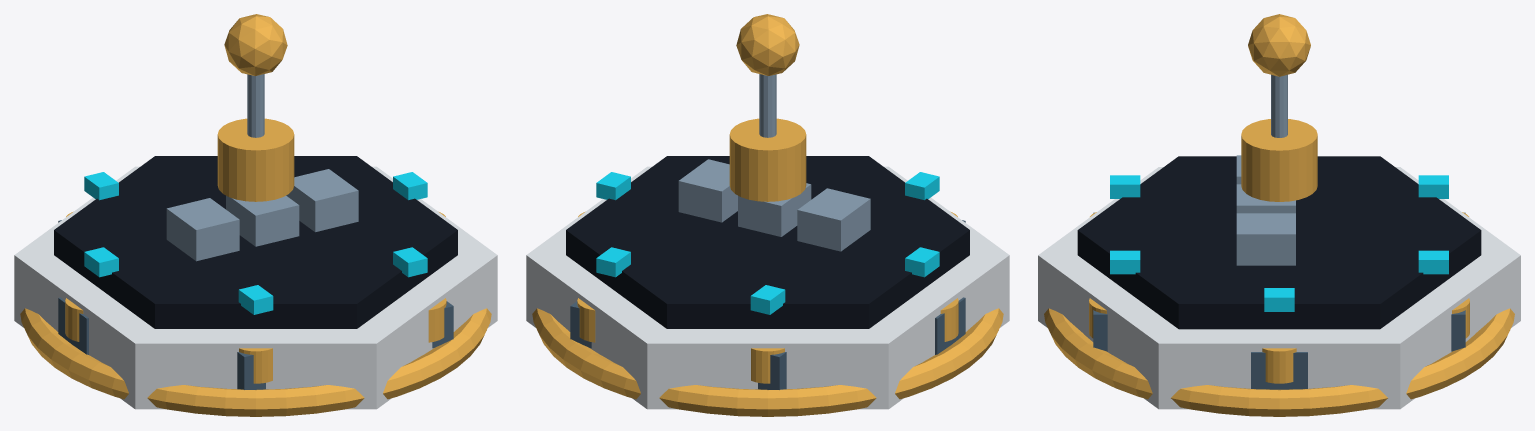
The model's file is 16_L92_SixLegMicrogravityLanderPlatform.fbx.
3 views of the same model, side by side, from view 1: azimuth 30°, elevation 25°; view 2: azimuth 150°, elevation 25°; view 3: azimuth 270°, elevation 25° (orthographic).
Visible parts, largest first — view 1: L92_SixLegMicrogravityLanderPlatform_Part_0001, L92_SixLegMicrogravityLanderPlatform_Part_0000, L92_SixLegMicrogravityLanderPlatform_Part_0002, L92_SixLegMicrogravityLanderPlatform_Part_0005, L92_SixLegMicrogravityLanderPlatform_Part_0004, L92_SixLegMicrogravityLanderPlatform_Part_0003; view 2: L92_SixLegMicrogravityLanderPlatform_Part_0001, L92_SixLegMicrogravityLanderPlatform_Part_0000, L92_SixLegMicrogravityLanderPlatform_Part_0002, L92_SixLegMicrogravityLanderPlatform_Part_0005, L92_SixLegMicrogravityLanderPlatform_Part_0004, L92_SixLegMicrogravityLanderPlatform_Part_0003; view 3: L92_SixLegMicrogravityLanderPlatform_Part_0001, L92_SixLegMicrogravityLanderPlatform_Part_0000, L92_SixLegMicrogravityLanderPlatform_Part_0002, L92_SixLegMicrogravityLanderPlatform_Part_0005, L92_SixLegMicrogravityLanderPlatform_Part_0004, L92_SixLegMicrogravityLanderPlatform_Part_0003.
Part boxes in pixels (box(x1,y1,x2,y2)): L92_SixLegMicrogravityLanderPlatform_Part_0001: box(54, 156, 457, 328); L92_SixLegMicrogravityLanderPlatform_Part_0000: box(14, 166, 497, 409); L92_SixLegMicrogravityLanderPlatform_Part_0002: box(20, 14, 491, 416); L92_SixLegMicrogravityLanderPlatform_Part_0005: box(166, 74, 358, 261); L92_SixLegMicrogravityLanderPlatform_Part_0004: box(84, 172, 427, 314); L92_SixLegMicrogravityLanderPlatform_Part_0003: box(58, 220, 453, 389); L92_SixLegMicrogravityLanderPlatform_Part_0001: box(566, 156, 969, 328); L92_SixLegMicrogravityLanderPlatform_Part_0000: box(526, 166, 1009, 409); L92_SixLegMicrogravityLanderPlatform_Part_0002: box(532, 14, 1003, 416); L92_SixLegMicrogravityLanderPlatform_Part_0005: box(678, 74, 870, 251); L92_SixLegMicrogravityLanderPlatform_Part_0004: box(596, 172, 939, 314); L92_SixLegMicrogravityLanderPlatform_Part_0003: box(570, 220, 965, 389); L92_SixLegMicrogravityLanderPlatform_Part_0001: box(1077, 156, 1481, 329); L92_SixLegMicrogravityLanderPlatform_Part_0000: box(1038, 167, 1520, 409); L92_SixLegMicrogravityLanderPlatform_Part_0002: box(1044, 14, 1514, 416); L92_SixLegMicrogravityLanderPlatform_Part_0005: box(1236, 74, 1295, 265); L92_SixLegMicrogravityLanderPlatform_Part_0004: box(1110, 175, 1448, 311); L92_SixLegMicrogravityLanderPlatform_Part_0003: box(1093, 212, 1465, 389).
Bounding box in the file's own units: 358 × 256 × 366.
